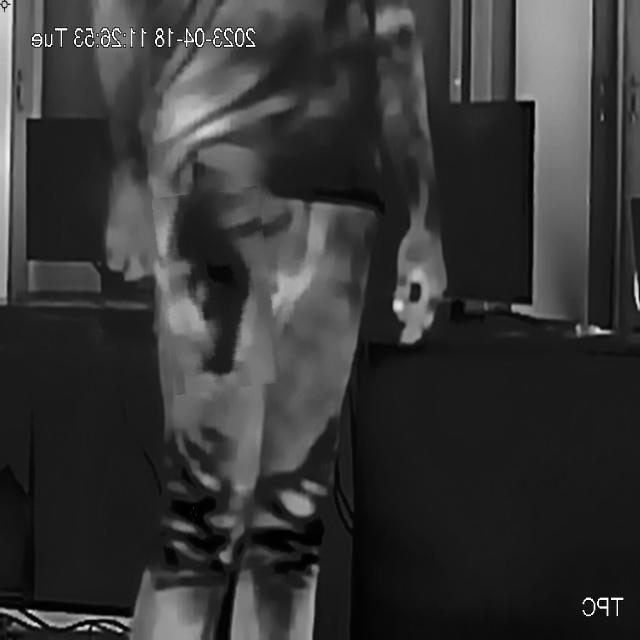Weapon: (157, 189, 276, 393)
